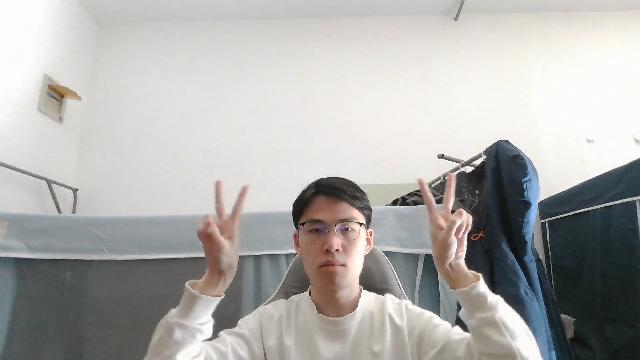yes: (181, 176, 253, 300), (417, 170, 475, 282)
